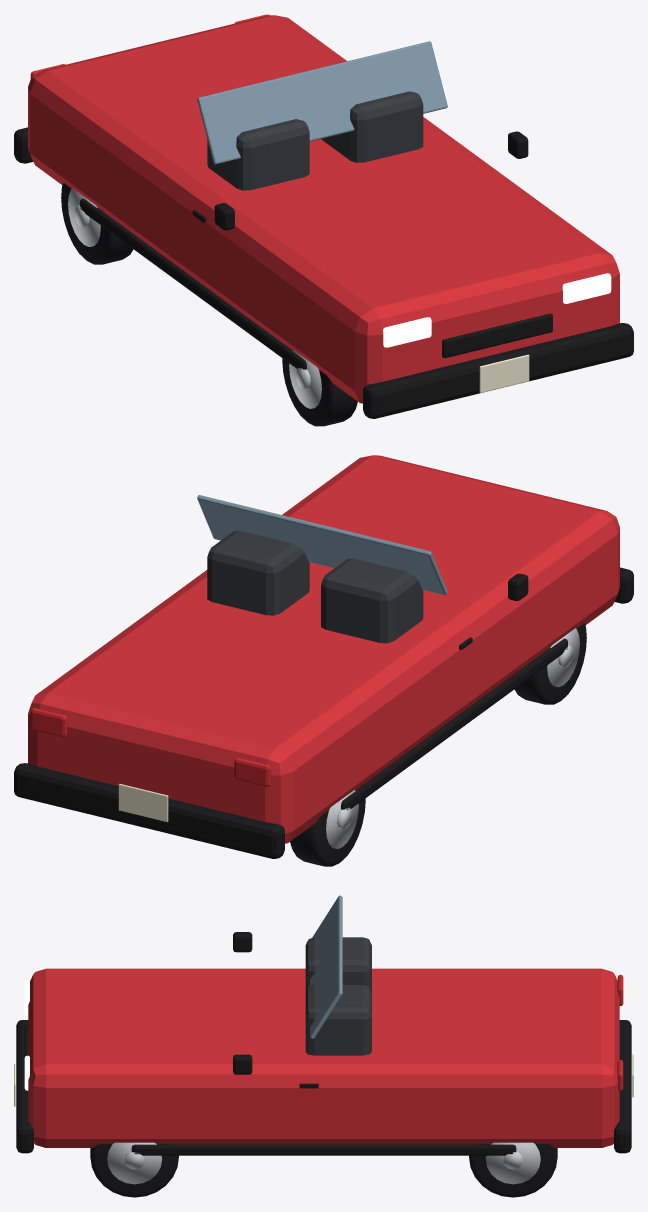
Rendered from convert.glb.
3 views of the same model, one above another, from view 1: azimuth 30°, elevation 25°; view 2: azimuth 150°, elevation 25°; view 3: azimuth 270°, elevation 25° (orthographic). The views are drawn at different scales.
Visible parts, largest first — view 1: convertBody, wheelFR, wheelRR; view 2: convertBody, wheelRR, wheelFR; view 3: convertBody, wheelFL, wheelRL.
Part boxes in pixels (x1,y1,x2,y2): convertBody: (14, 14, 633, 418); wheelFR: (282, 345, 357, 426); wheelRR: (61, 183, 133, 264); convertBody: (14, 455, 633, 858); wheelRR: (290, 786, 365, 866); wheelFR: (514, 623, 586, 704); convertBody: (14, 895, 633, 1155); wheelFL: (90, 1142, 178, 1197); wheelRL: (469, 1142, 557, 1197).
Size of the model in its own units: 2.04 by 1.51 by 4.19.
